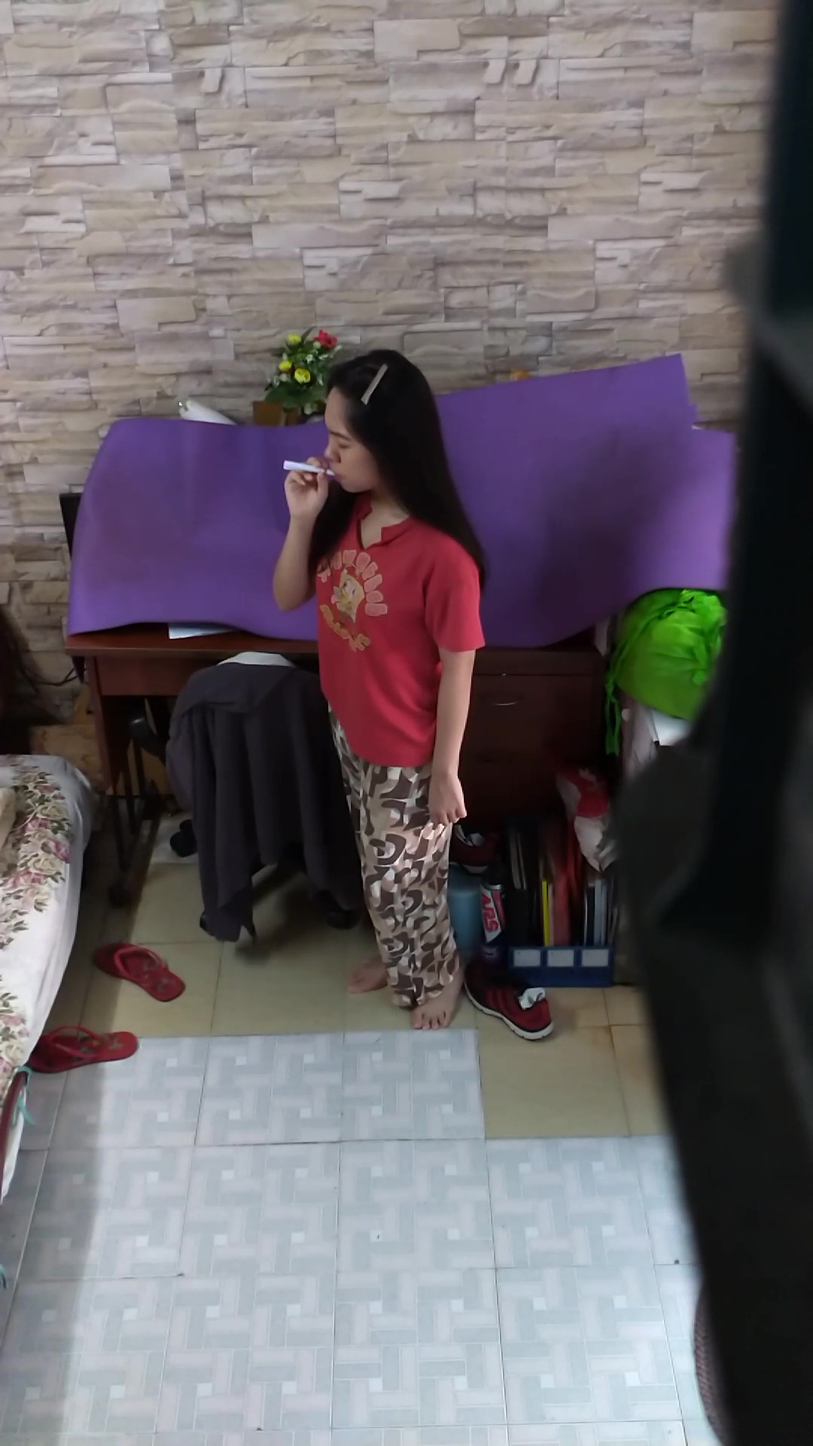cigarette: (278, 456, 323, 477)
person: (273, 346, 489, 1047)
